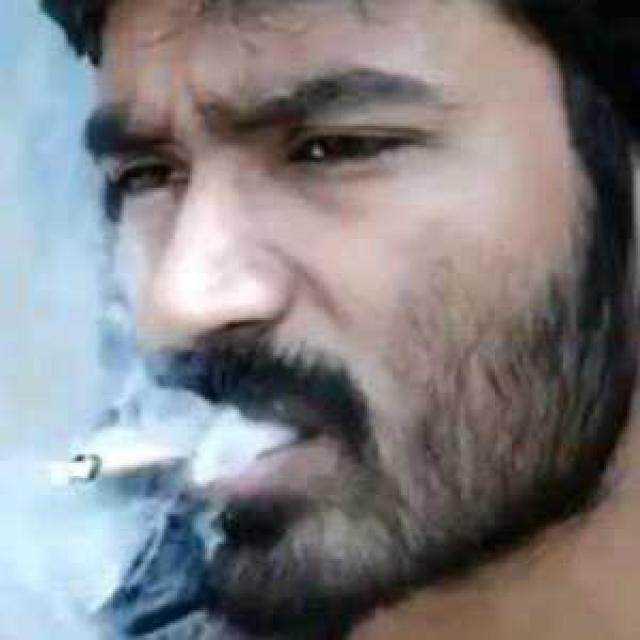Smooking: (50, 408, 239, 518)
